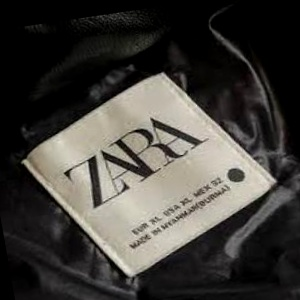zara: (87, 89, 300, 203)
